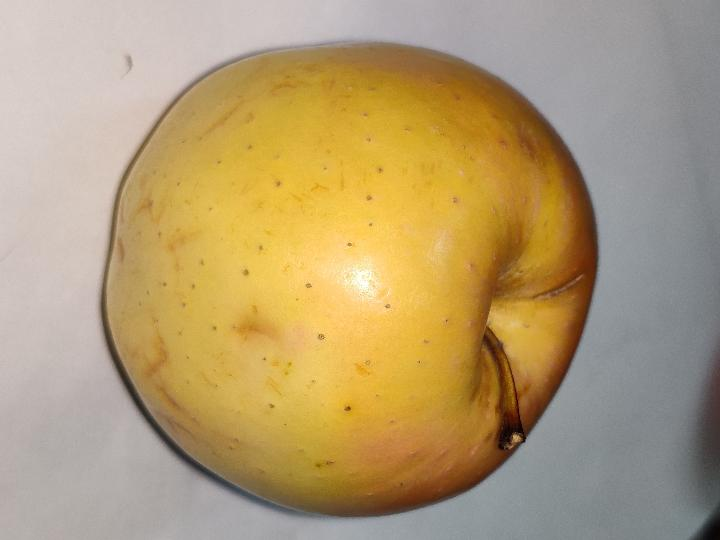apple: (104, 44, 597, 515)
surface_damage: (532, 273, 585, 300)
